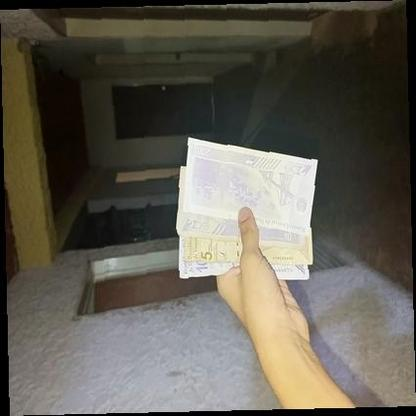vef_back: (184, 138, 318, 232), (176, 166, 318, 246), (178, 236, 309, 280)
vef_front: (180, 234, 315, 264)
